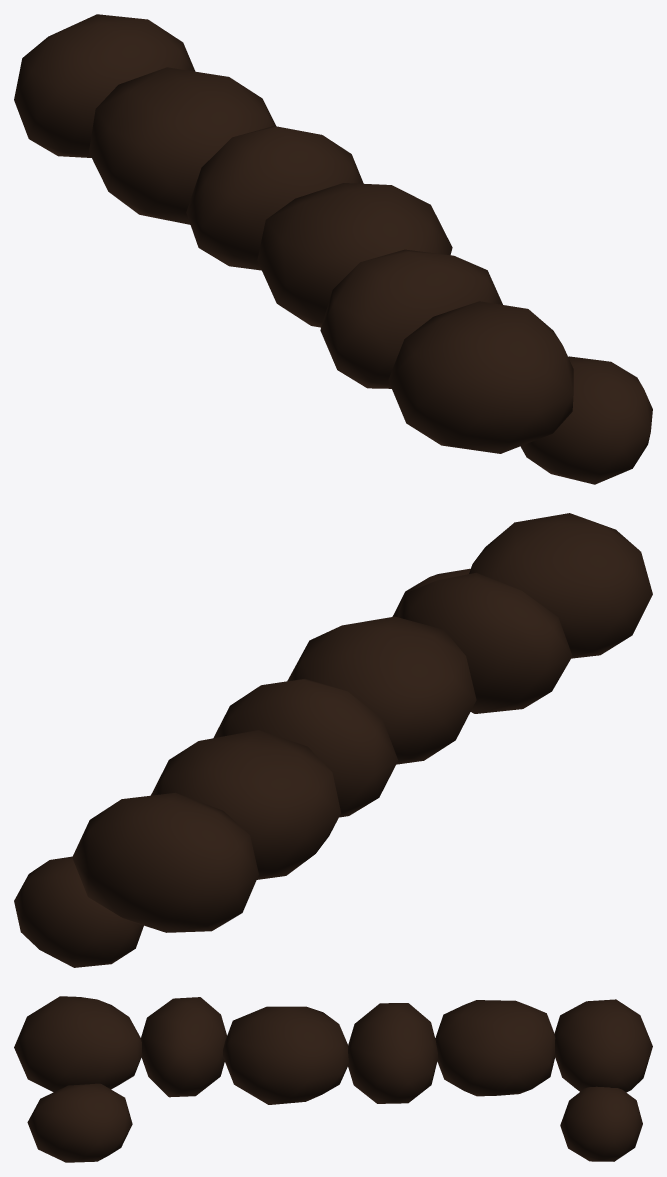
Rendered from canal_stones.glb.
3 renders of one model, top to bottom at view 1: azimuth 30°, elevation 25°; view 2: azimuth 150°, elevation 25°; view 3: azimuth 270°, elevation 25°, orthographic. The views are drawn at different scales.
Visible parts, largest first — view 1: canal_stones_outline; view 2: canal_stones_outline; view 3: canal_stones_outline.
Part boxes in pixels (x1,y1,x2,y2): canal_stones_outline: (14, 14, 652, 484); canal_stones_outline: (14, 513, 652, 967); canal_stones_outline: (14, 996, 652, 1162).
Size of the model in its own units: 0.6342 by 0.4792 by 2.17.
